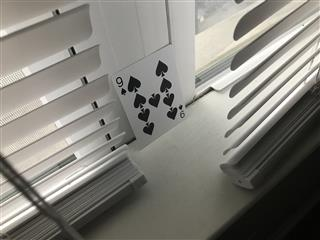NineOfSpades: (110, 43, 189, 149)
